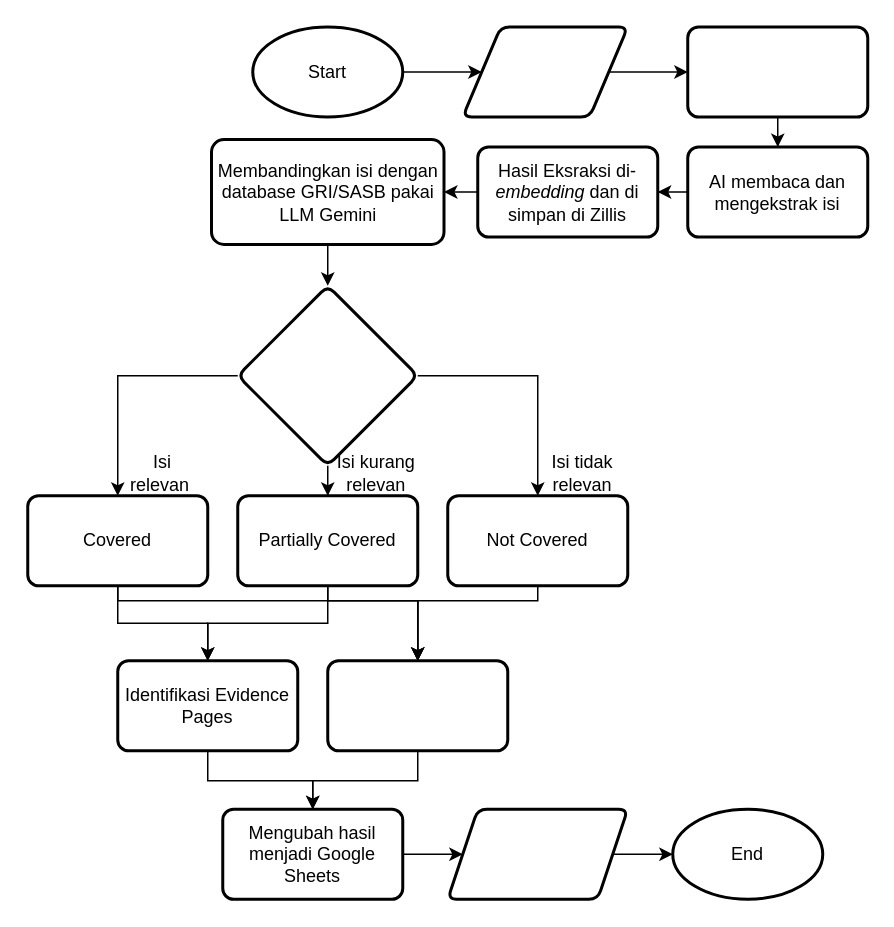
The diagram is 894 pixels wide and 927 high, and some of its shapes have lost their labels. Each missing label, with the box of its shape:
AI menentukan coverage status: (236, 284, 418, 466)
Google Sheets: (446, 807, 628, 900)
Membuat rekomendasi: (326, 658, 508, 752)
n8n menerima dan menyimpan PDF: (686, 25, 868, 118)
Upload PDF: (460, 25, 628, 118)
